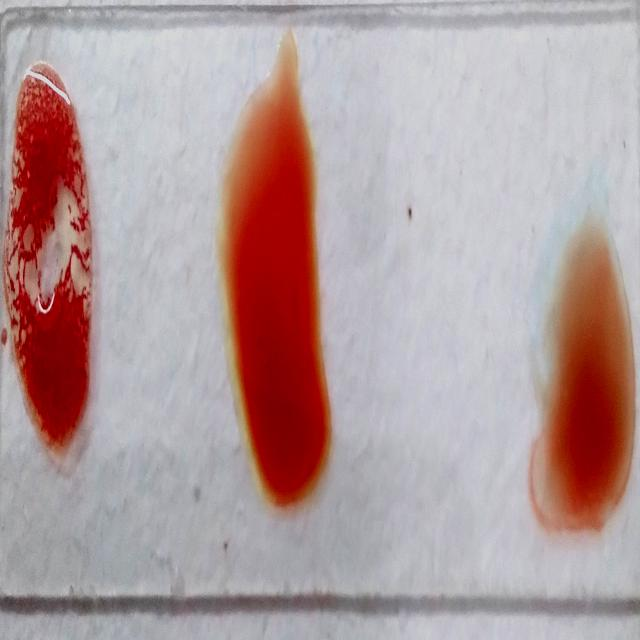D: (3, 73, 93, 467)
